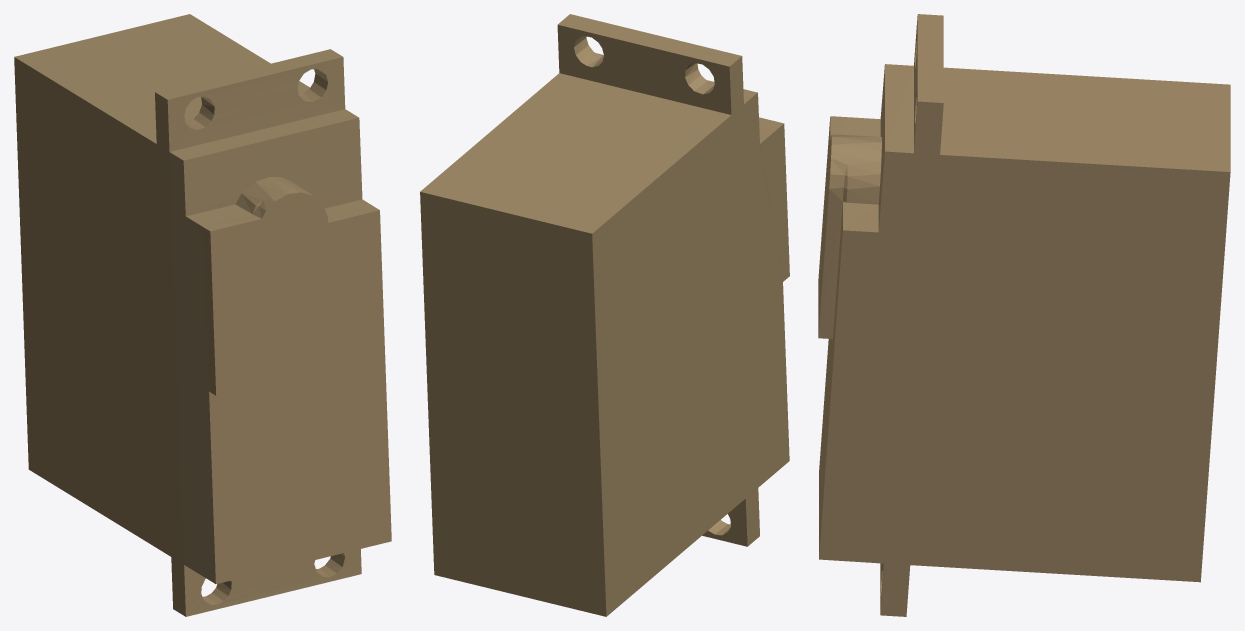
The model's file is Texture.245.dae.balanced.glb.
3 views of the same model, side by side, from view 1: azimuth 30°, elevation 25°; view 2: azimuth 150°, elevation 25°; view 3: azimuth 270°, elevation 25° (orthographic). The views are drawn at different scales.
Bounding box in the file's own units: 0.2828 × 0.7762 × 0.5625.
